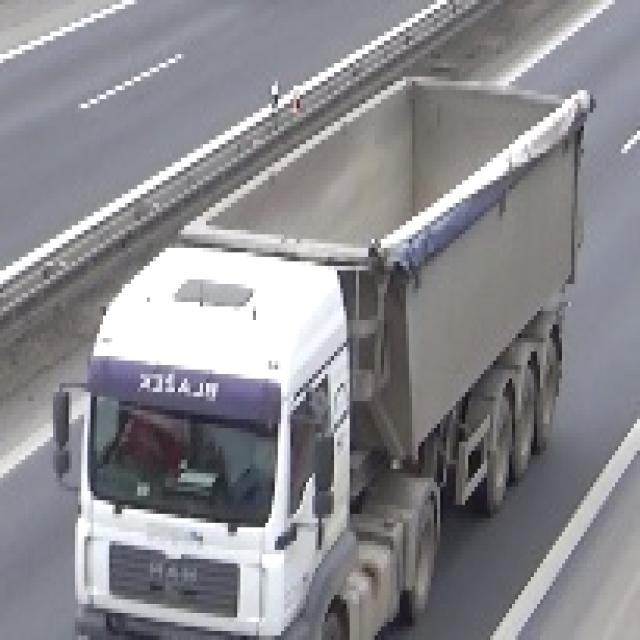TRUCK: (65, 67, 586, 640)
